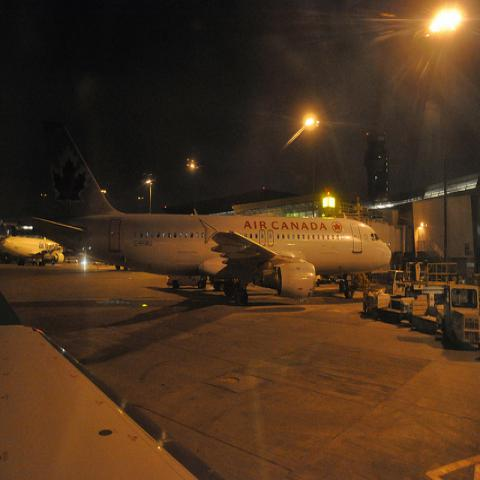truck: (406, 284, 479, 352), (361, 270, 416, 322)
